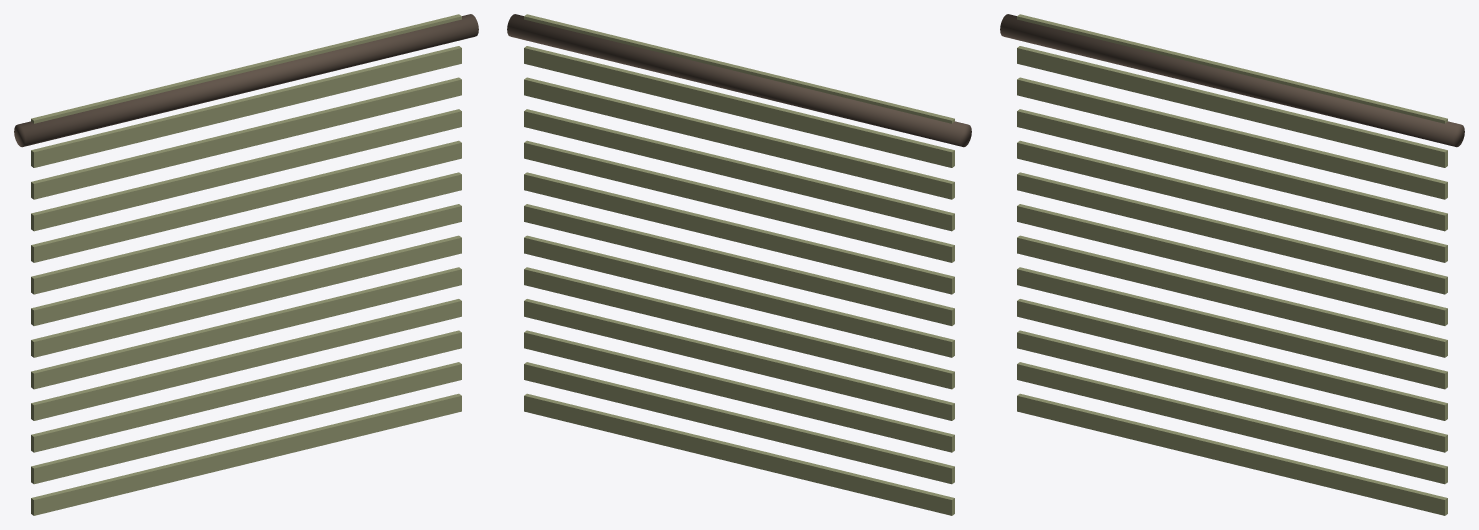
The model's file is prop_sudare.glb.
3 renders of one model, left to right at view 1: azimuth 30°, elevation 25°; view 2: azimuth 150°, elevation 25°; view 3: azimuth 330°, elevation 25°, orthographic.
Parts seen in each view (by area): view 1: sudare; view 2: sudare; view 3: sudare.
Boxes of the visible parts, left/top/right/bottom form: sudare: left=14, top=14, right=478, bottom=515; sudare: left=507, top=14, right=971, bottom=515; sudare: left=1000, top=14, right=1464, bottom=515.
Bounding box in the file's own units: 1.8 × 1.5 × 0.08.
